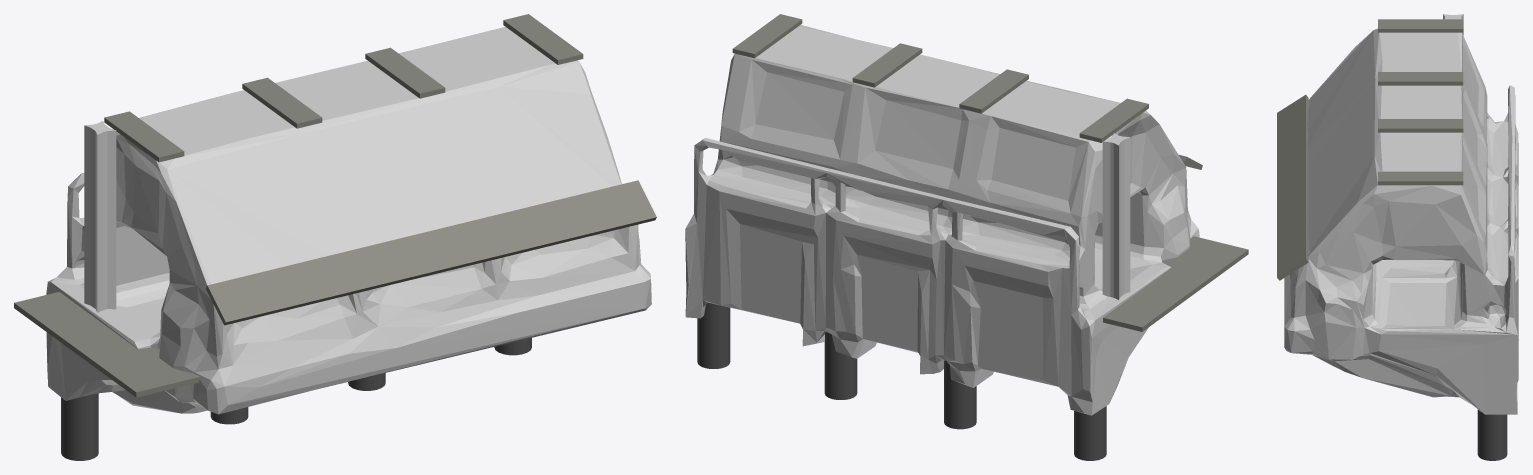
File: hinged_station_01.fbx
The picture shows the model from 3 angles, left to right: view 1: azimuth 30°, elevation 25°; view 2: azimuth 150°, elevation 25°; view 3: azimuth 270°, elevation 25°; orthographic projection. The views are drawn at different scales.
Parts seen in each view (by area): view 1: hinged_station_01; view 2: hinged_station_01; view 3: hinged_station_01.
Boxes of the visible parts, bbox=[...] form: hinged_station_01: bbox=[14, 14, 656, 460]; hinged_station_01: bbox=[685, 14, 1248, 460]; hinged_station_01: bbox=[1277, 14, 1518, 460].
Bounding box in the file's own units: 409 × 264 × 212.
